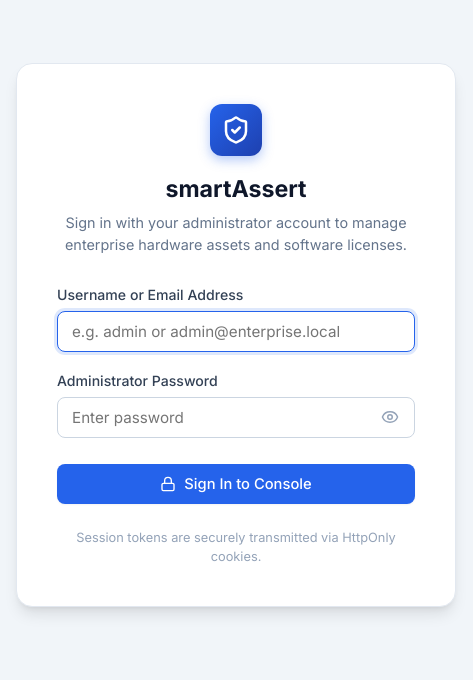
Test: Frontend Authentication, Navigation & Dashboard Tests › 4. Failed login displays accessible error message
Type "admin" into the field labelled "Username or Email Address". click: point(236, 331)
box: [57,311,415,352]
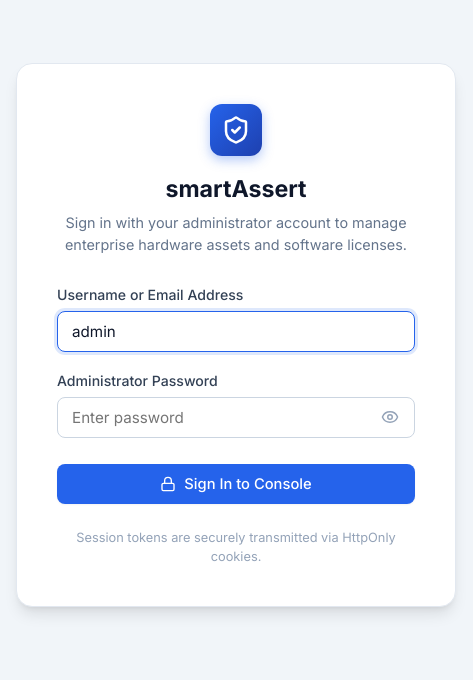
Type "WrongPassword!" into the password field labelled "Administrator Password". click: point(236, 417)
box: [57,397,415,438]
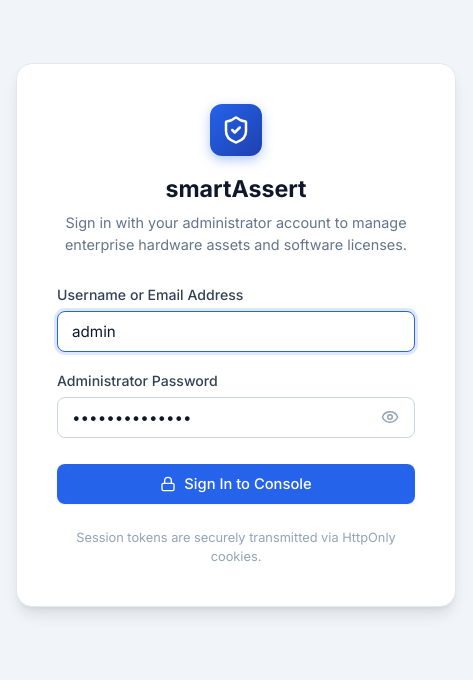
Click the button "Sign In to Console". click: point(236, 484)
box: [57,464,415,504]
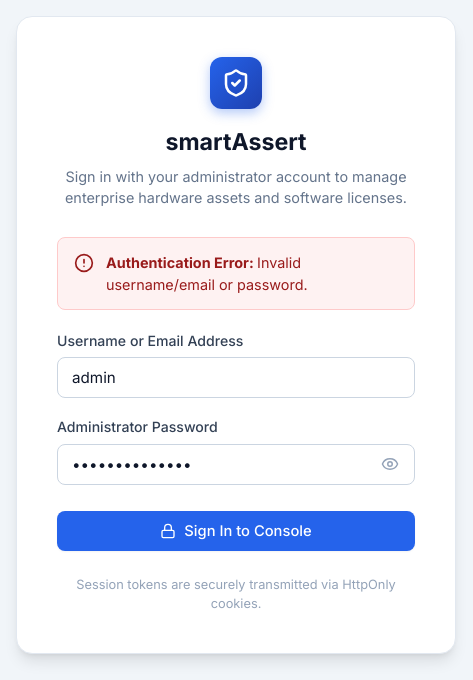
expect the text "Invalid username/email or password." is shown: met, box [106,254,308,293]
